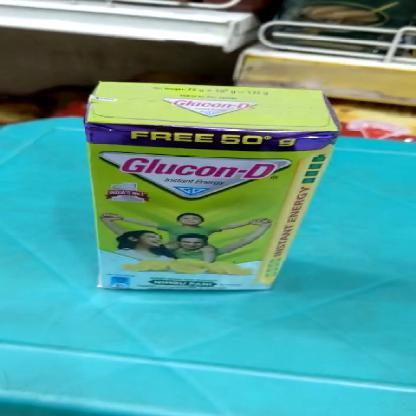Glucon D Nimbu Pani 1-KG: (90, 130, 324, 298)
